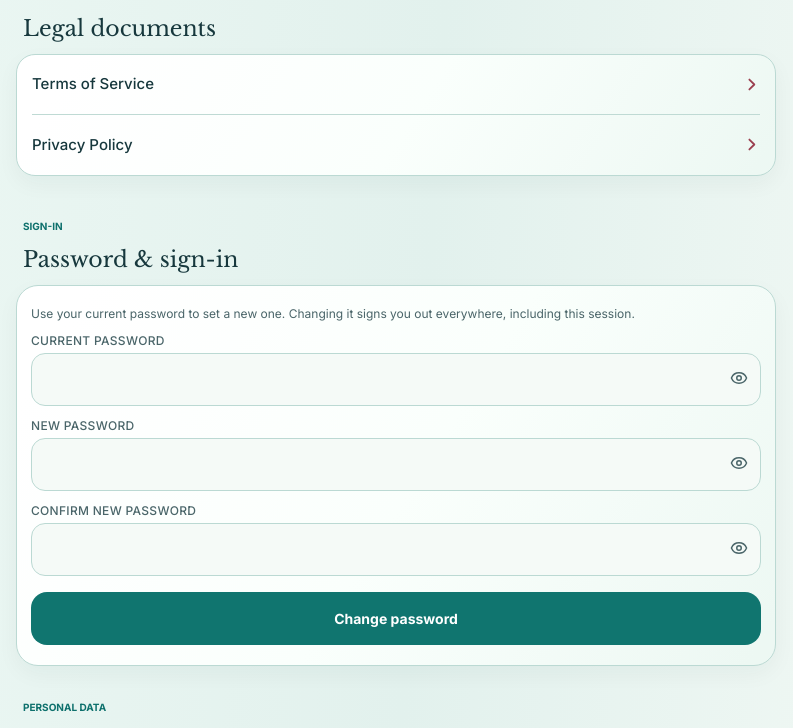
it: PrivacySecurityScreen › shows the server's wrong-current-password response without clearing the session
The image size is (793, 728).
(page scrolled)
In the password field labelled "Current password": (396, 380) left=31, top=353, right=761, bottom=406, type "incorrect"
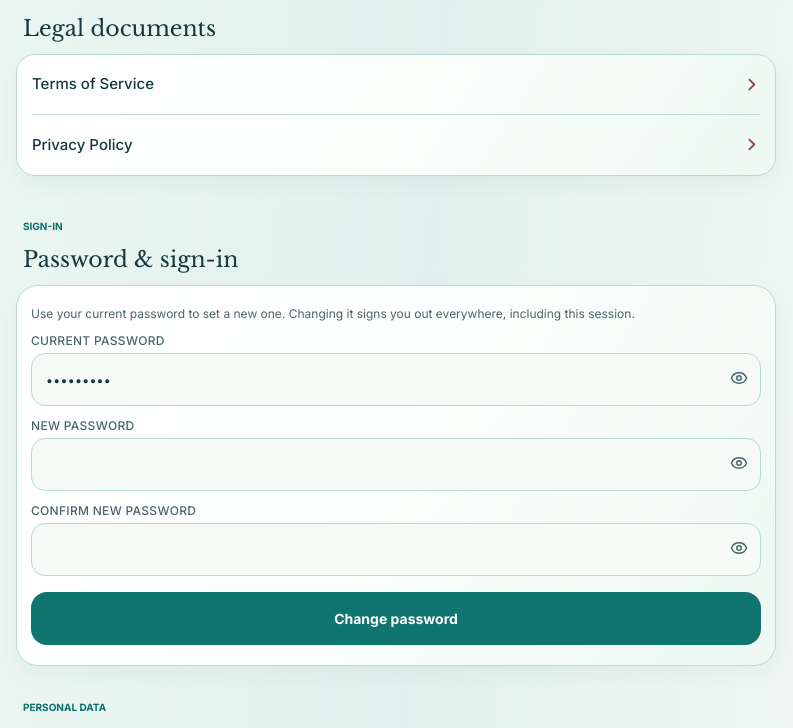
In the password field labelled "New password": (396, 465) left=31, top=438, right=761, bottom=491, type "AQuiteDifferentPassword456!"
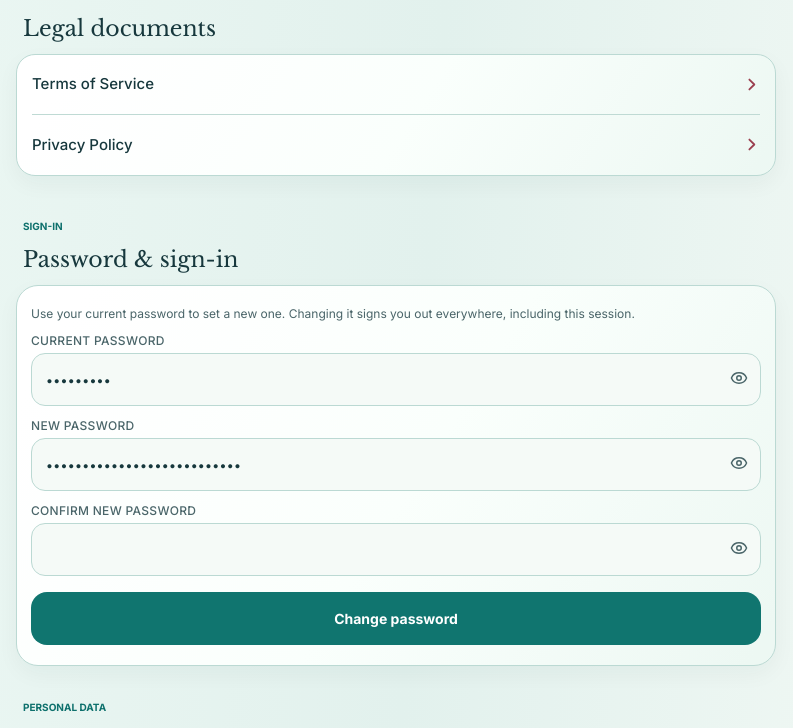
In the password field labelled "Confirm new password": (396, 550) left=31, top=523, right=761, bottom=576, type "AQuiteDifferentPassword456!"
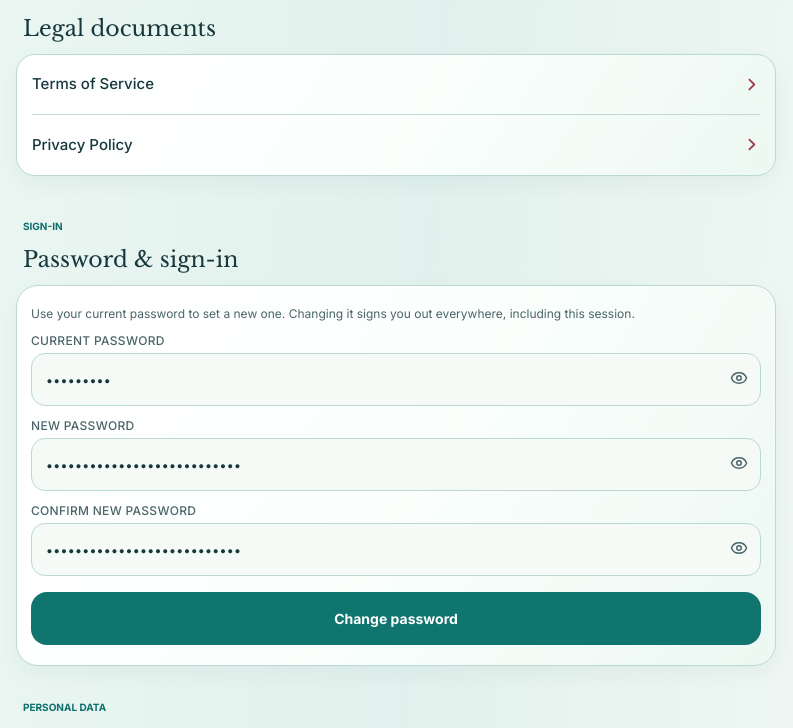
Click the button "Change password": (396, 619) left=31, top=592, right=761, bottom=645
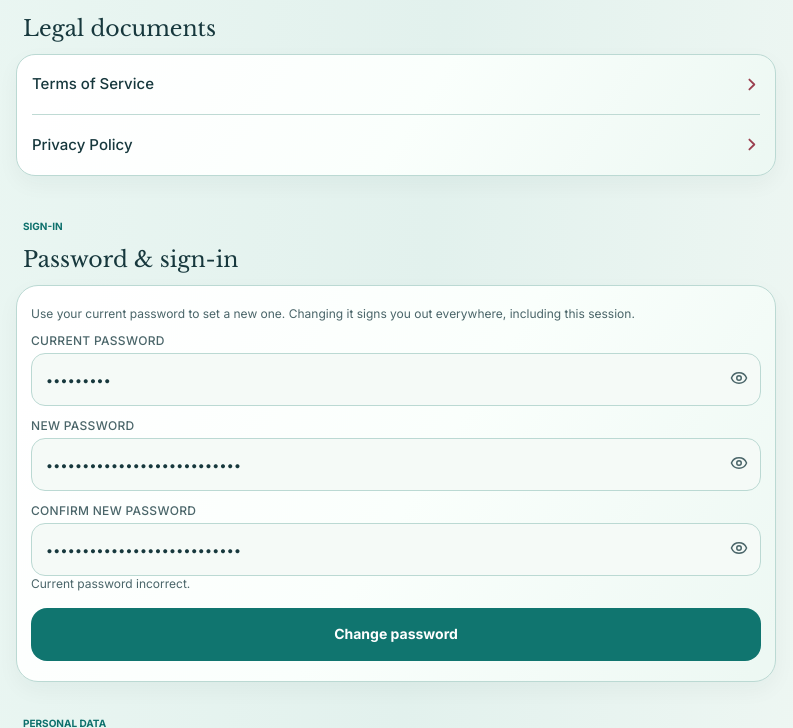
Now the message reads "Current password incorrect.", box left=31, top=576, right=190, bottom=591
